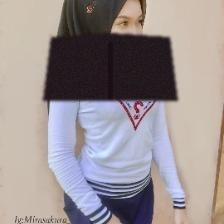Cadar_Niqab: (42, 0, 177, 100)
